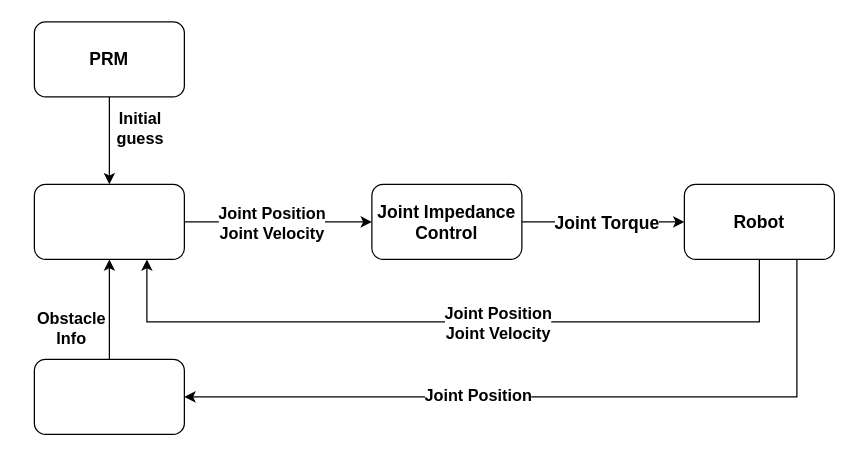
The diagram is 856 pixels wide and 456 high, and some of its shapes have lost their labels. Each missing label, with the centre of its shape:
Collision Detection: (x=108, y=396)
MPC: (x=108, y=221)
